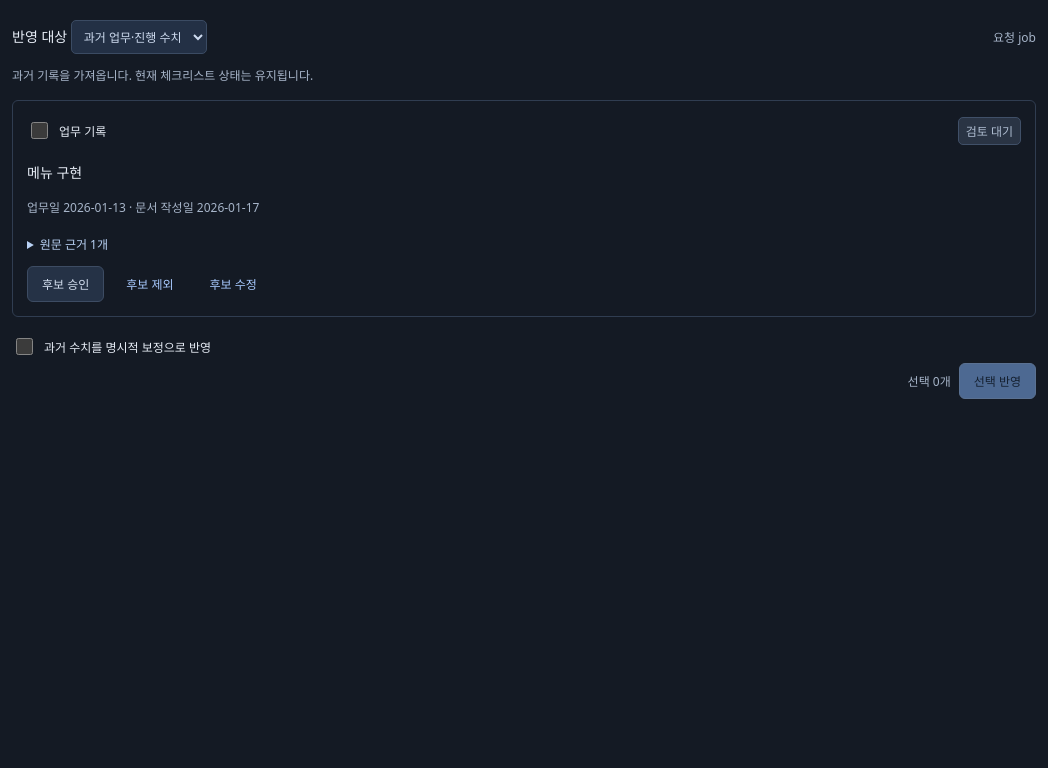
Test case: 가져오기 검토 › import_requires_selection_and_retains_conflict_edits
expect the button "선택 반영" is disabled: met, box x1=959 y1=363 x2=1036 y2=399
Click the button "후보 수정" at (233, 284), box x1=196 y1=266 x2=271 y2=302
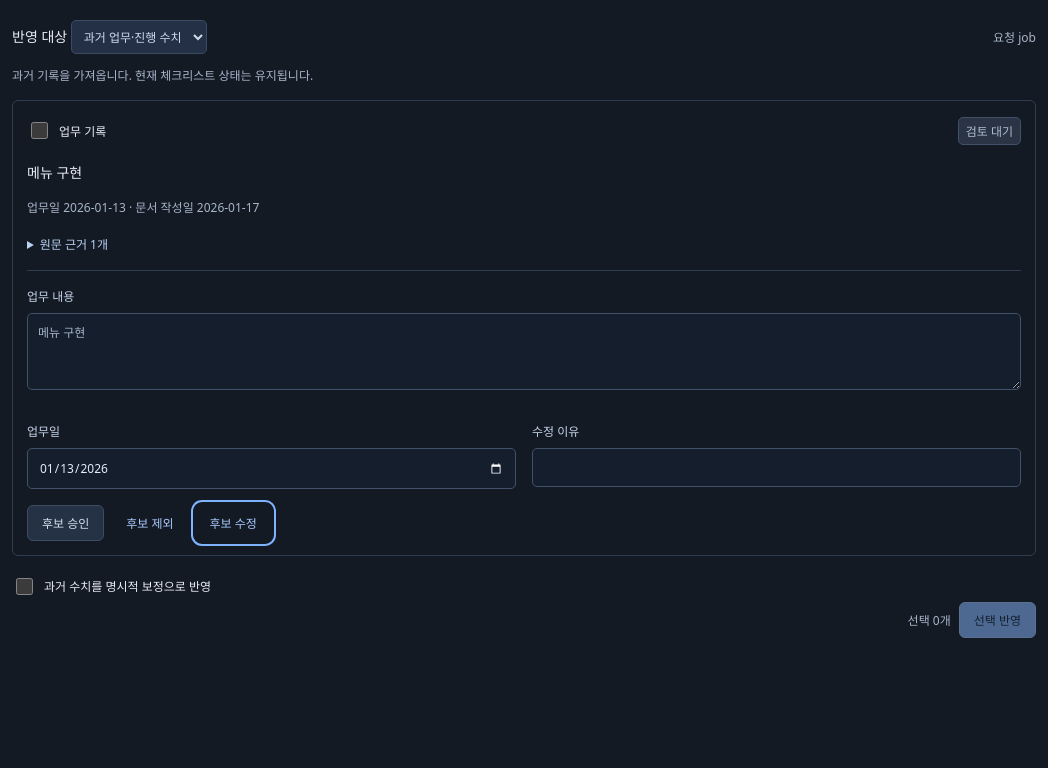
Replace the text in the text box labelled "업무 내용" with "수정한 업무" at (524, 352), box x1=27 y1=313 x2=1021 y2=390
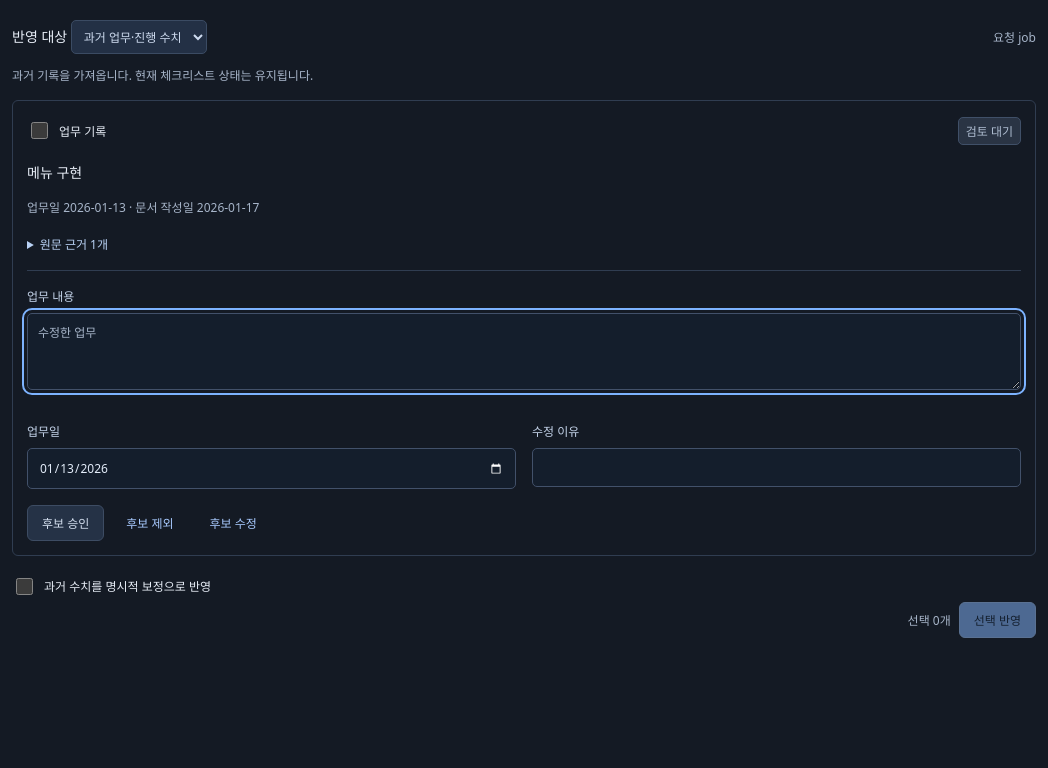
Type "원문 날짜 확인" into the field labelled "수정 이유" at (776, 468), box x1=532 y1=448 x2=1021 y2=487
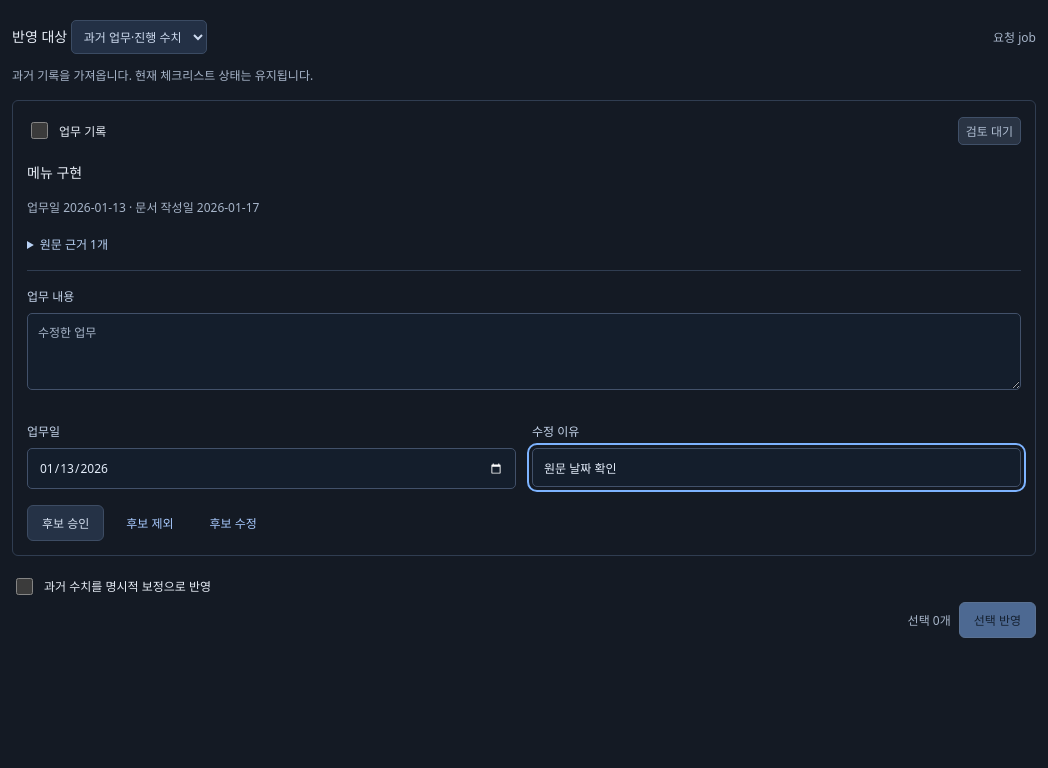
Click the button "후보 승인" at (66, 523), box x1=27 y1=505 x2=104 y2=541
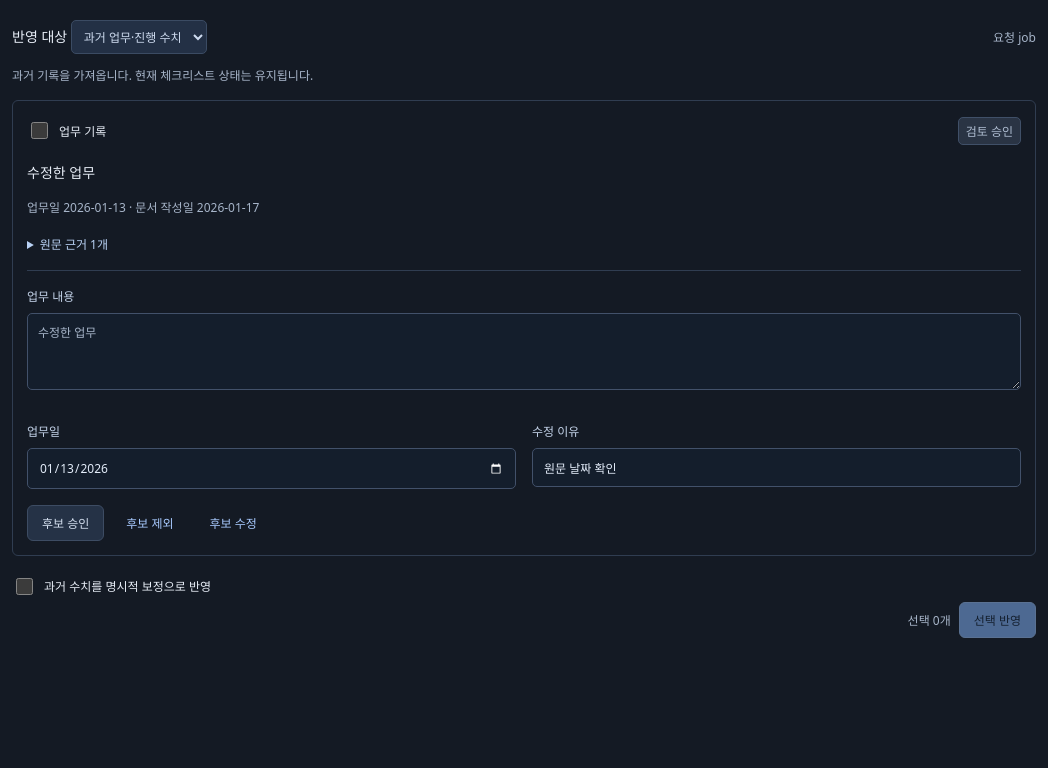
Click the checkbox named "업무 기록 후보 선택" at (40, 131), box x1=31 y1=122 x2=48 y2=139
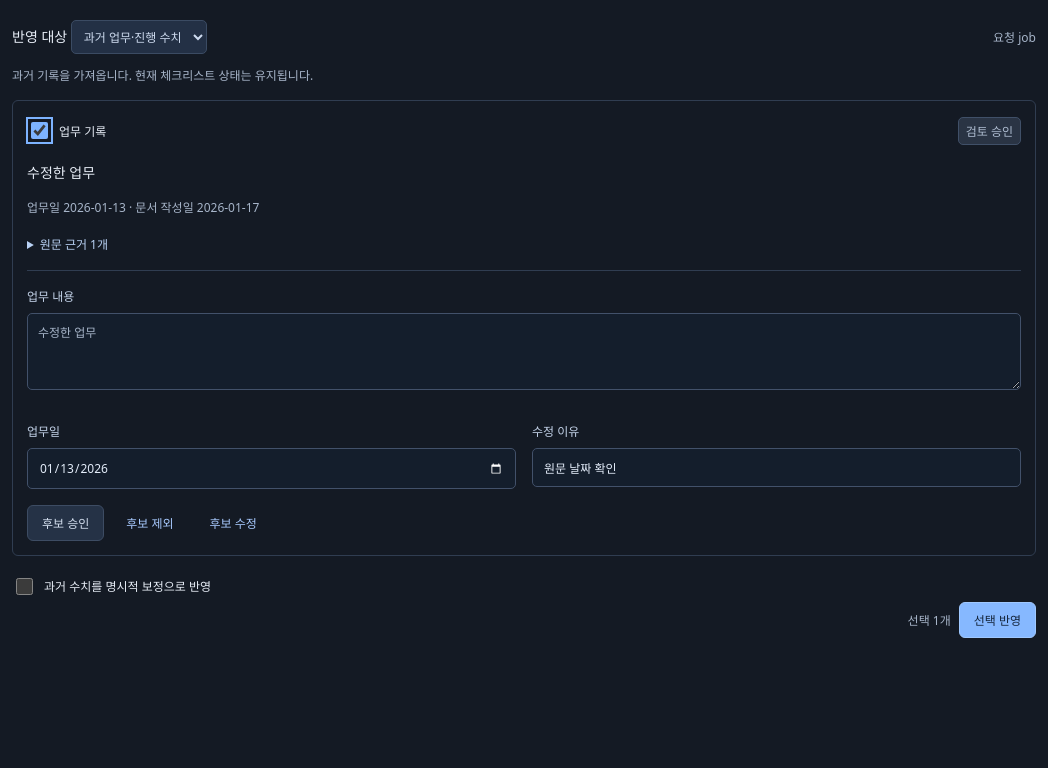
Click the button "선택 반영" at (997, 620), box x1=959 y1=602 x2=1036 y2=638
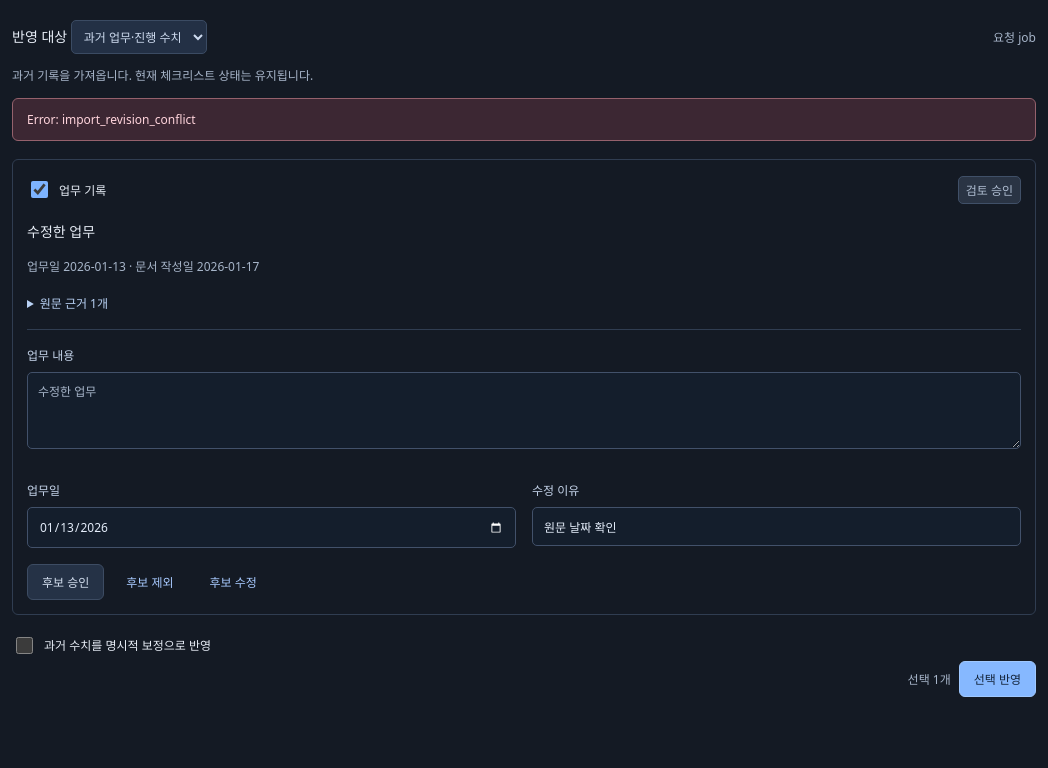
expect the message shows "conflict": met, box x1=27 y1=111 x2=196 y2=128
